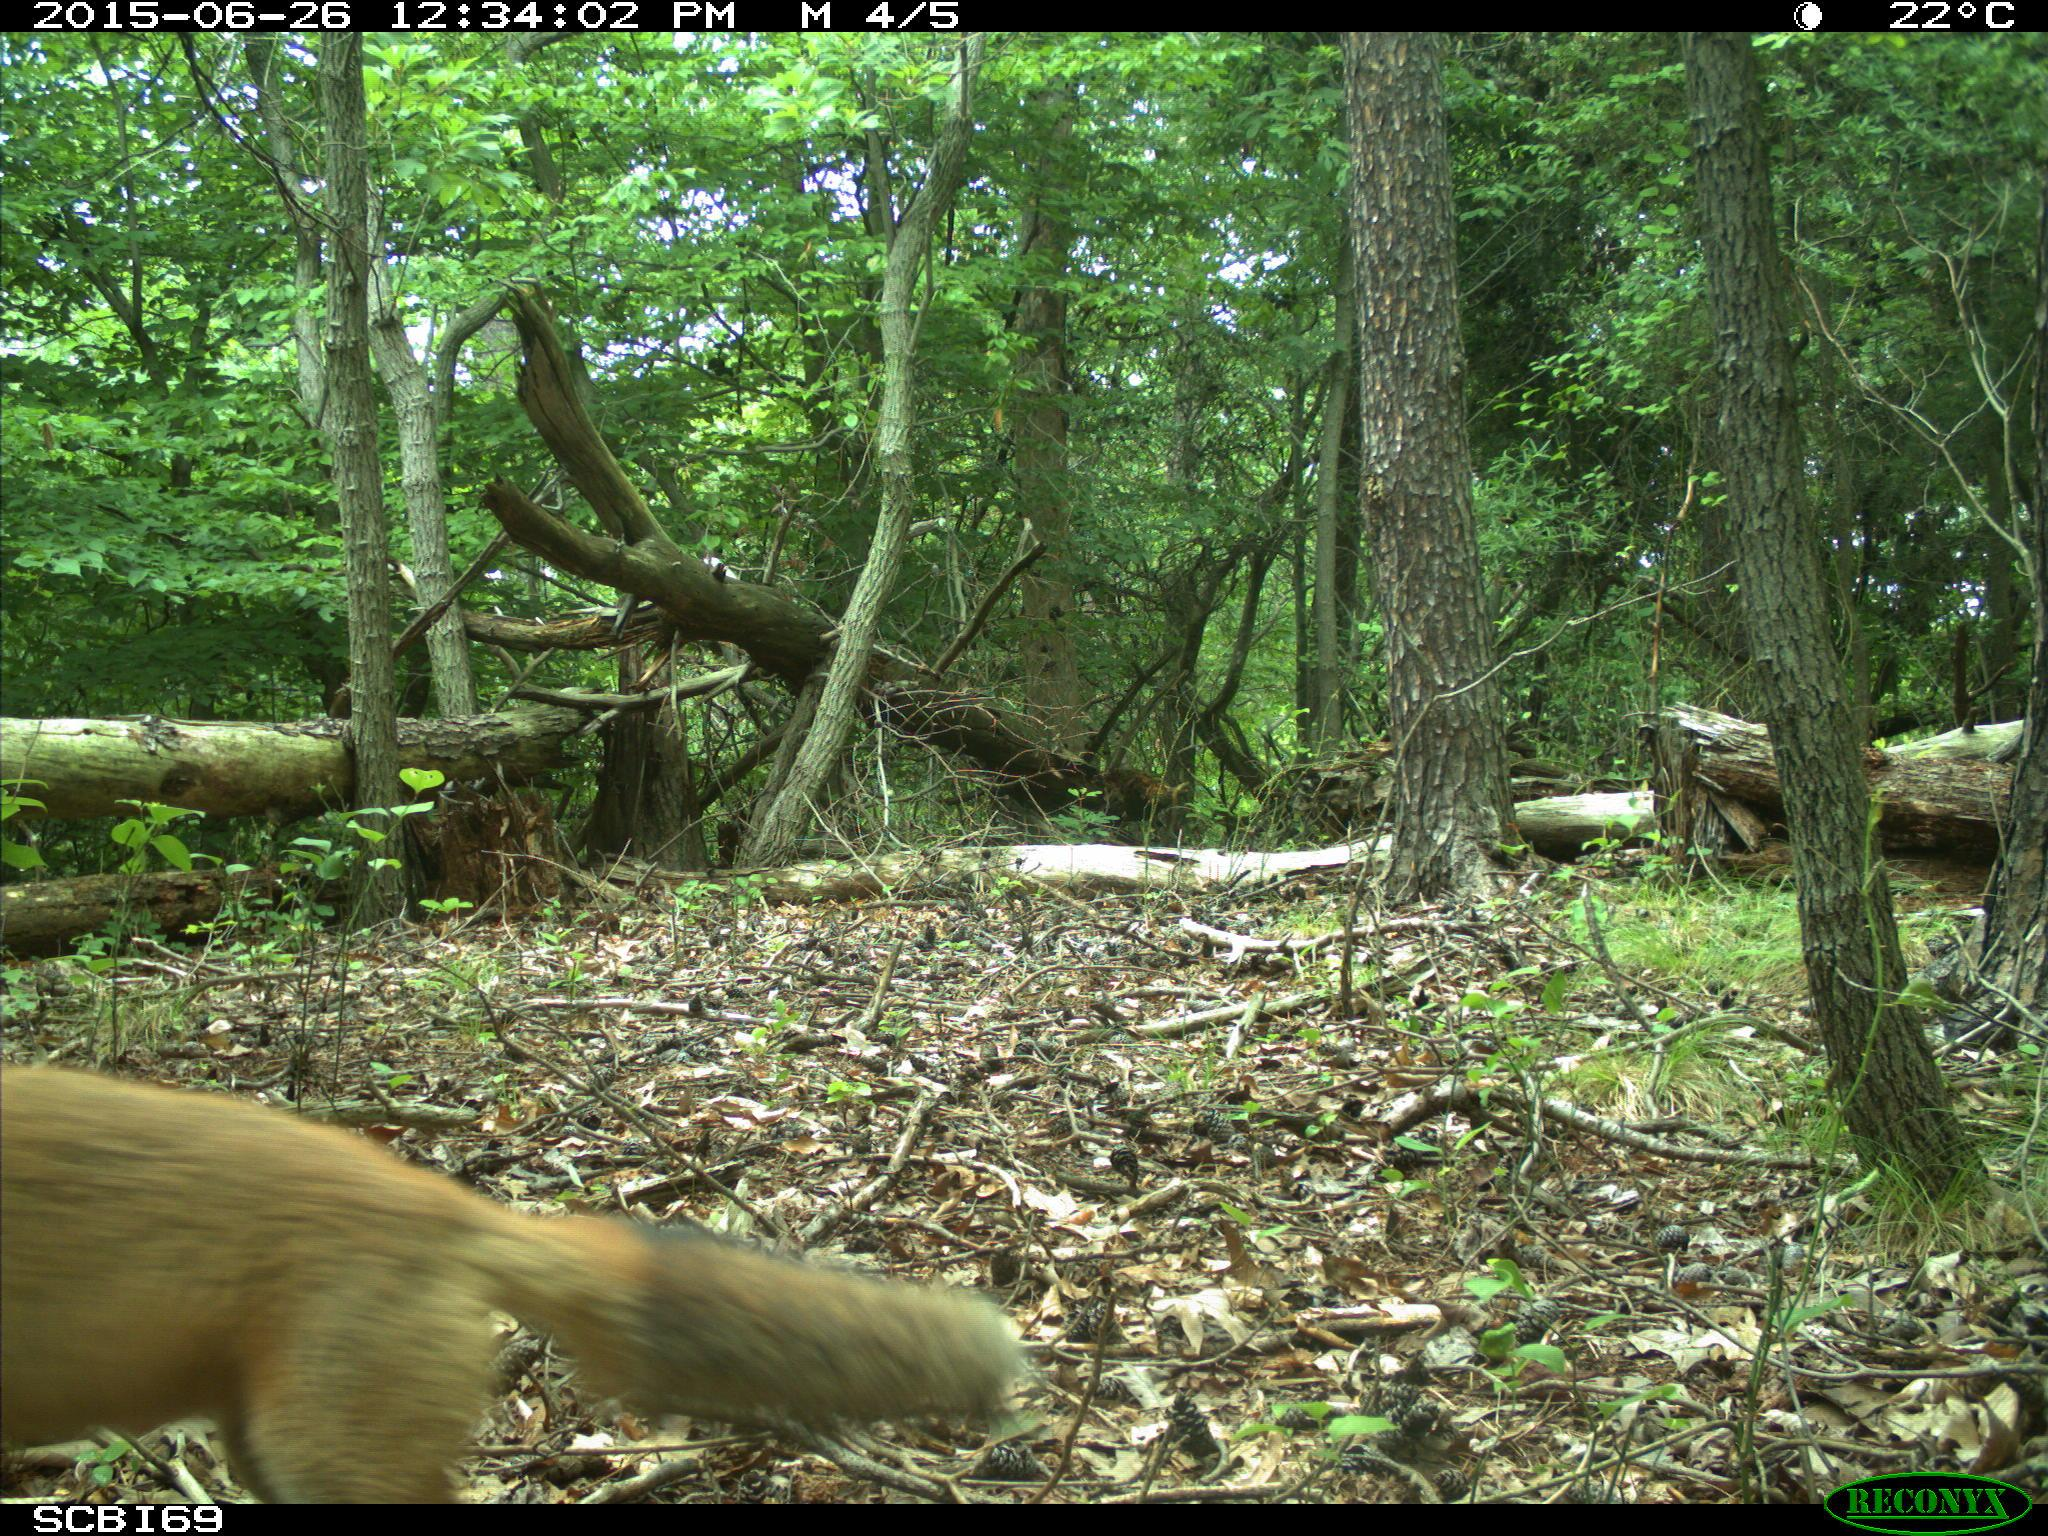Animal: (2, 1060, 1032, 1501)
